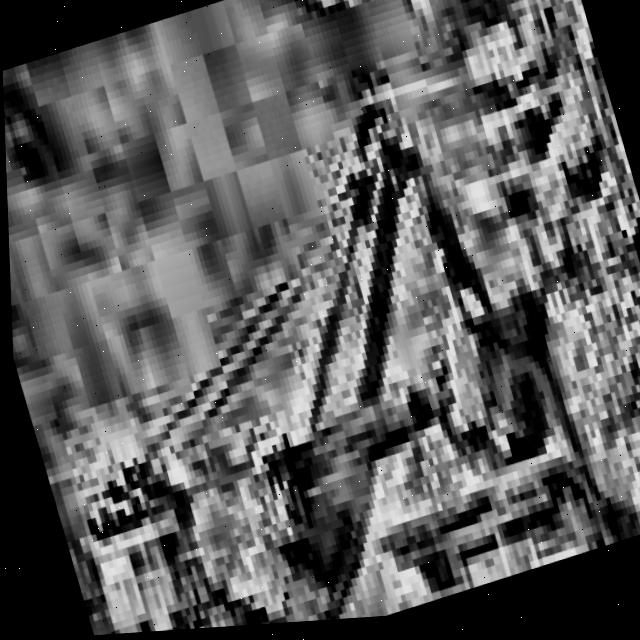dump_truck: (358, 415, 640, 617)
